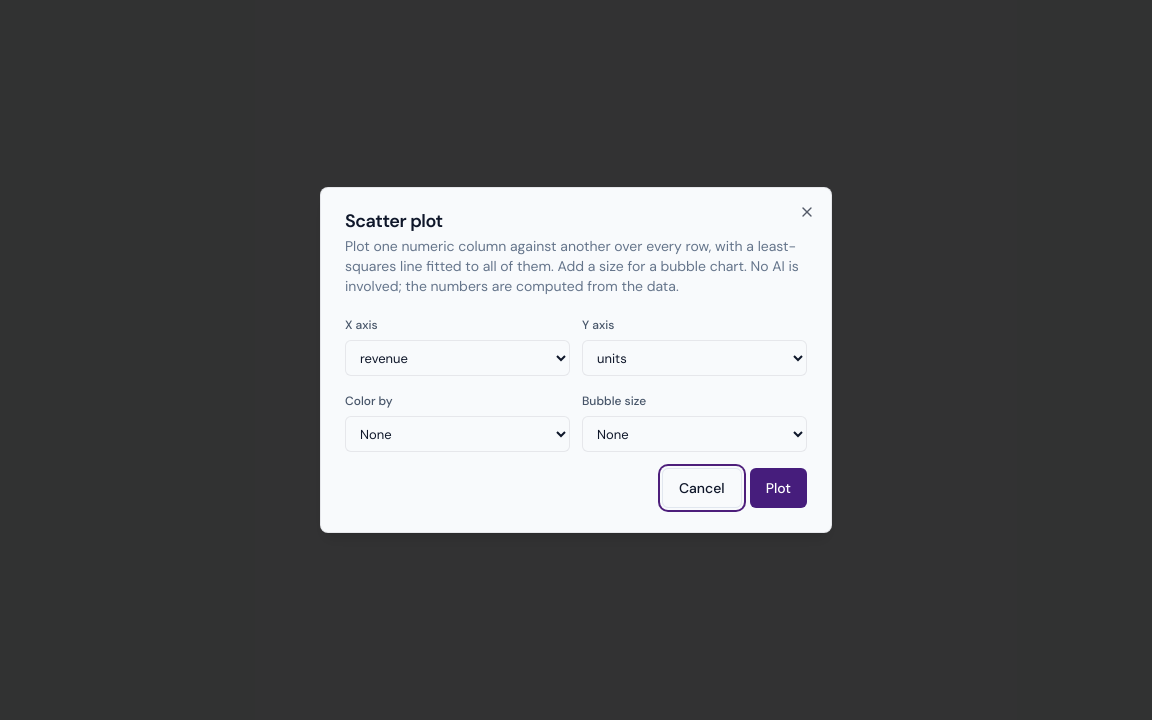
Test: ScatterPlotLauncher › stays open and shows the problem when the plot is refused
The image size is (1152, 720).
Check: the dropdown labelled "X axis" is shown, box [345, 340, 570, 376]
Click the button "Plot" at (778, 488), box [750, 468, 807, 508]
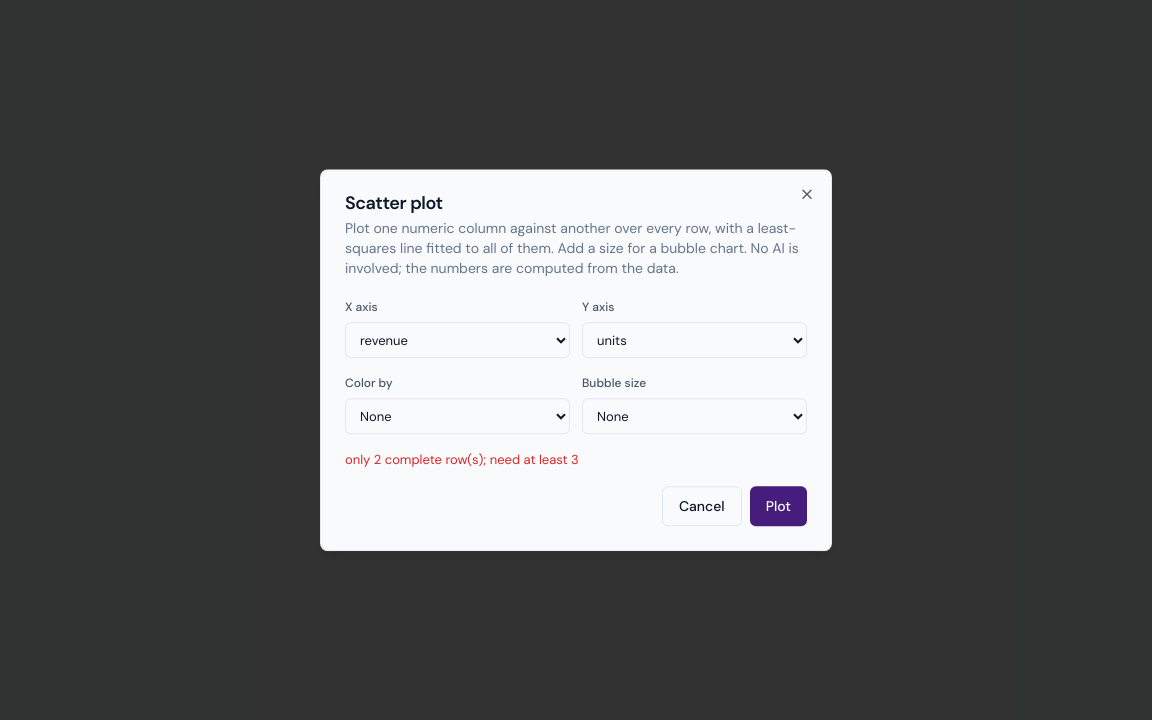
Check: the message shows "at least 3", box [345, 451, 579, 468]
